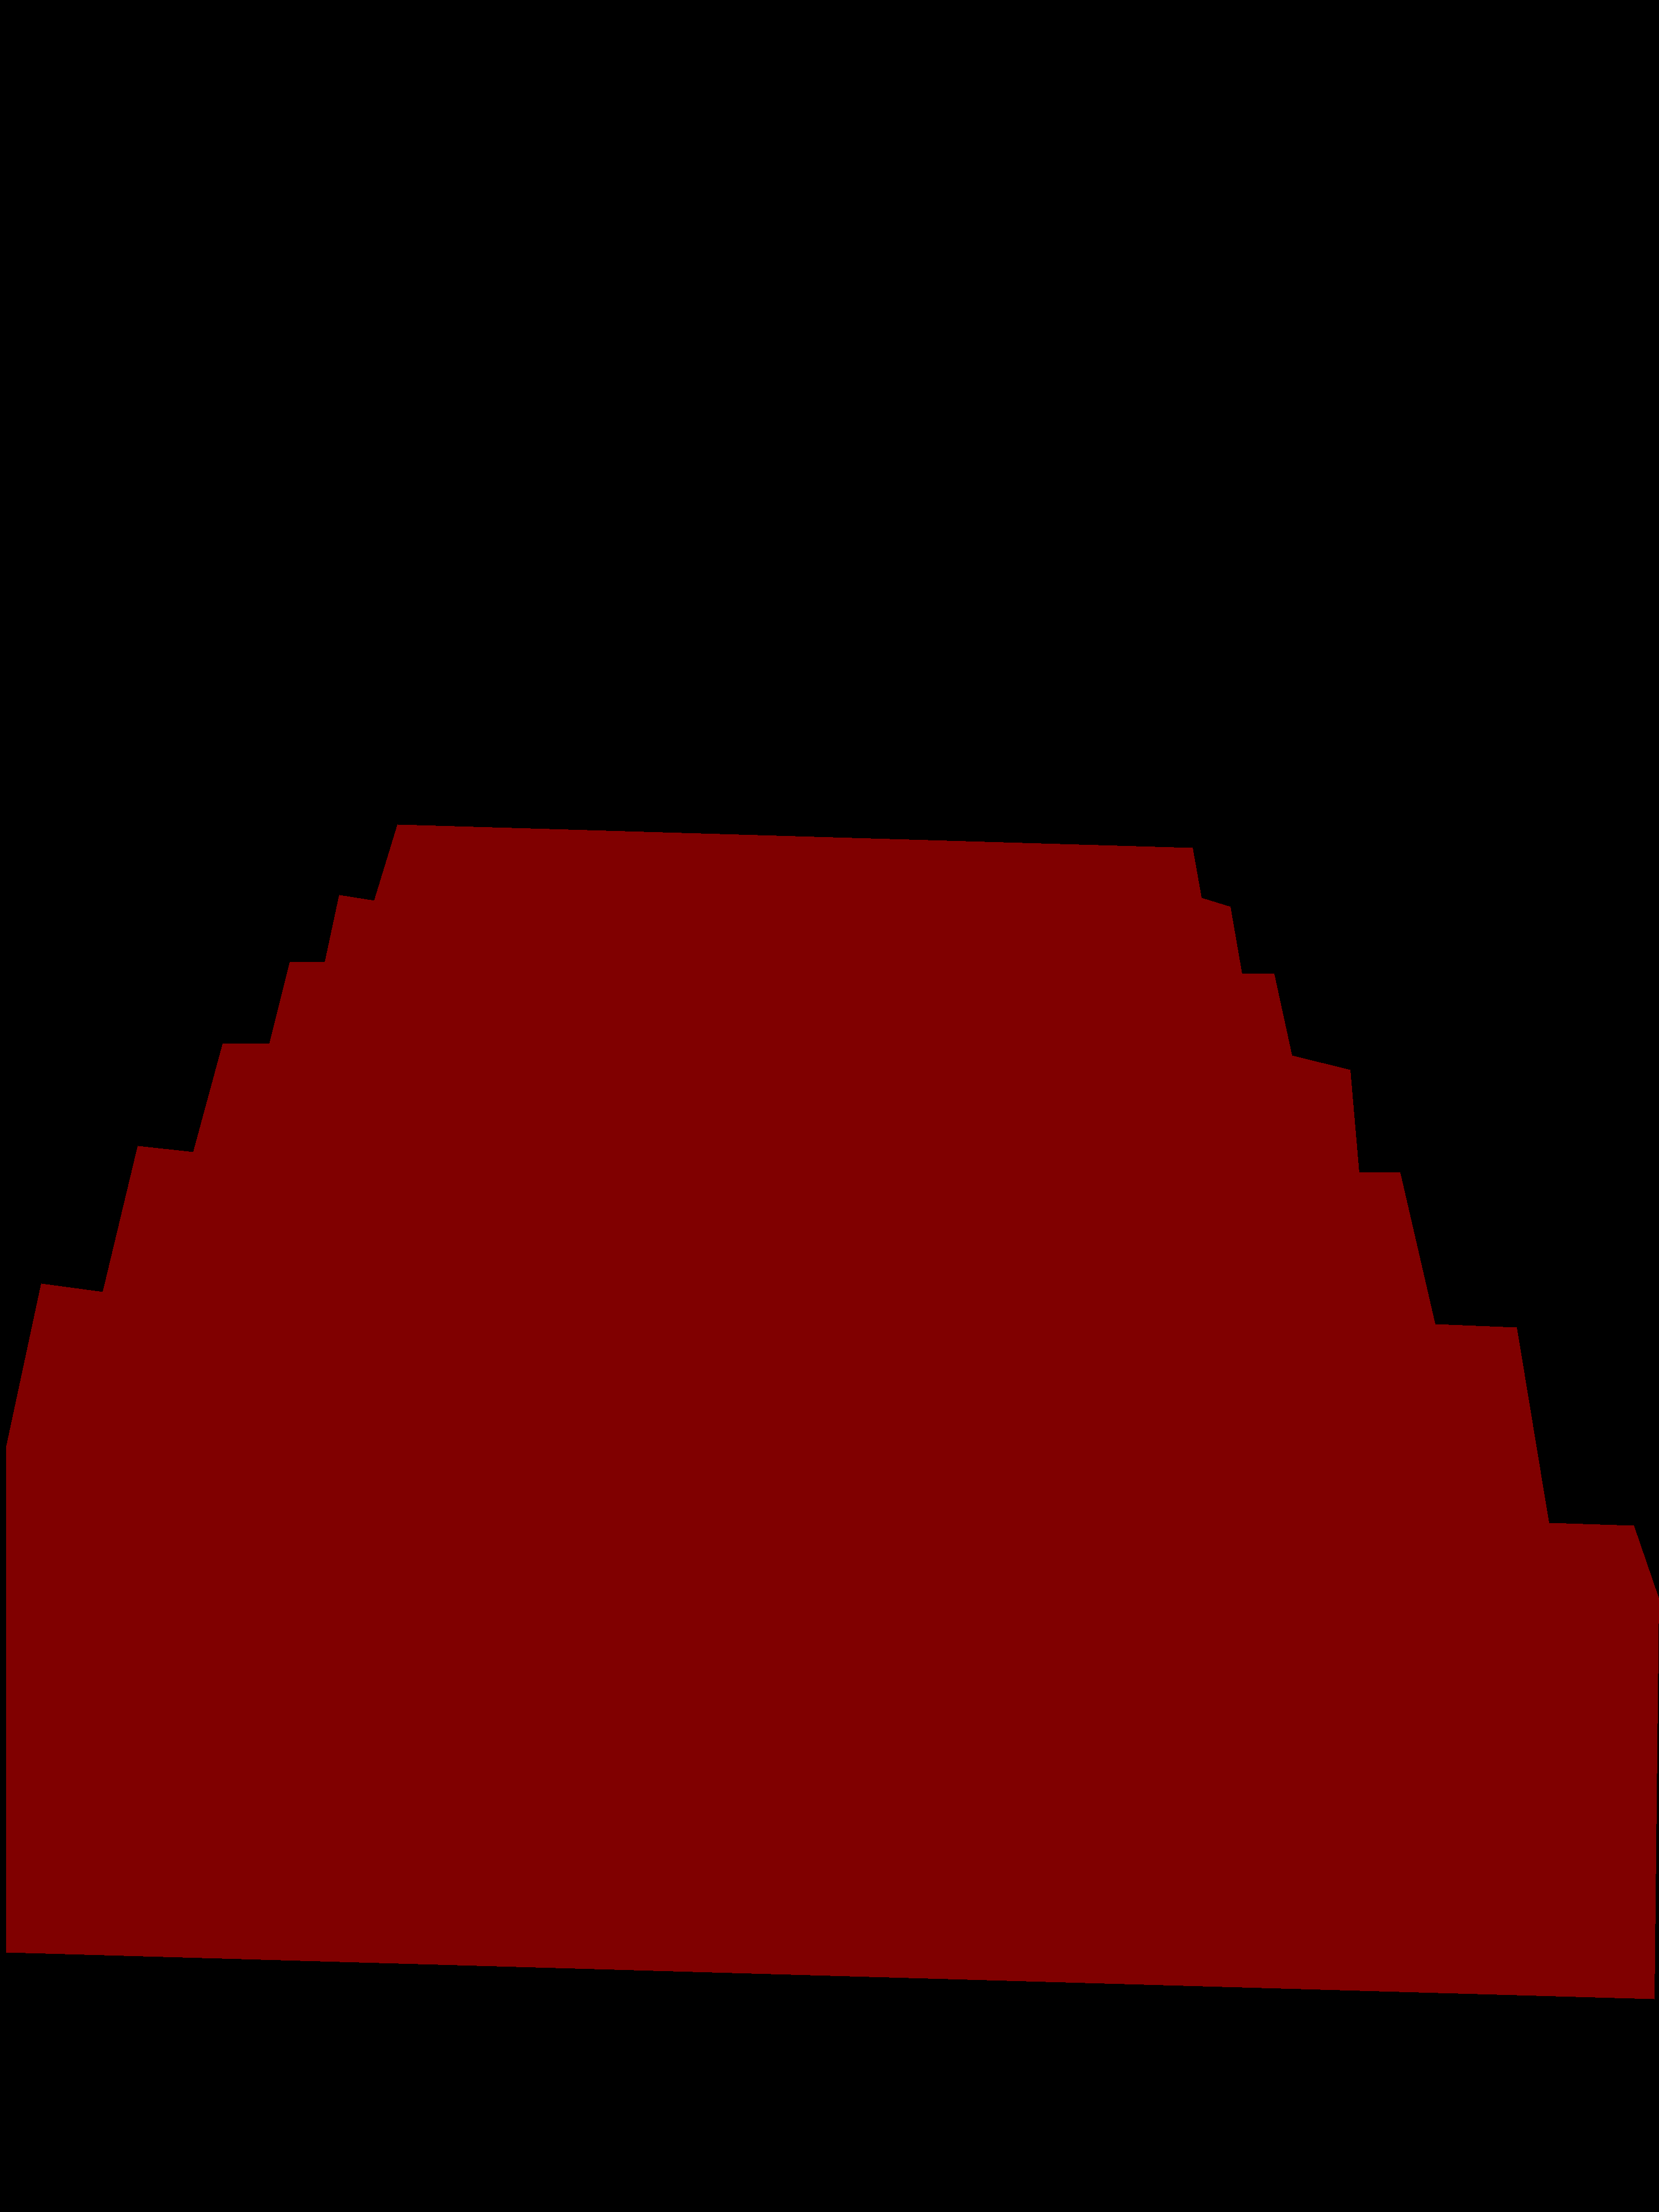stair: (7, 824, 1659, 1999)
